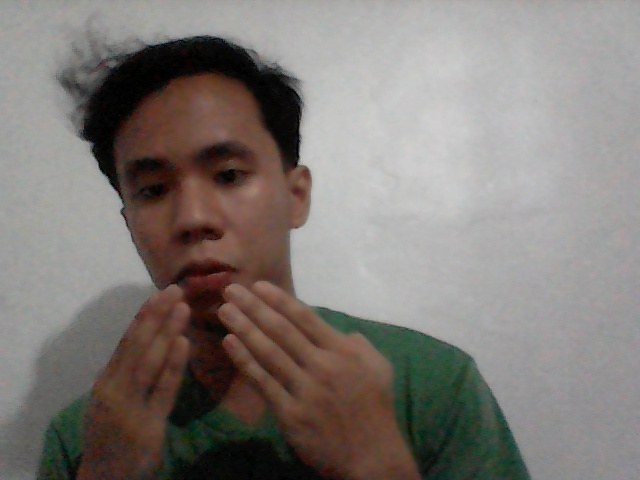Thank You: (47, 272, 413, 473)
